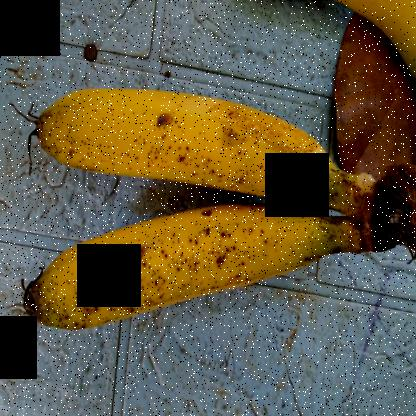ripe: (11, 45, 338, 210), (18, 209, 356, 356)
